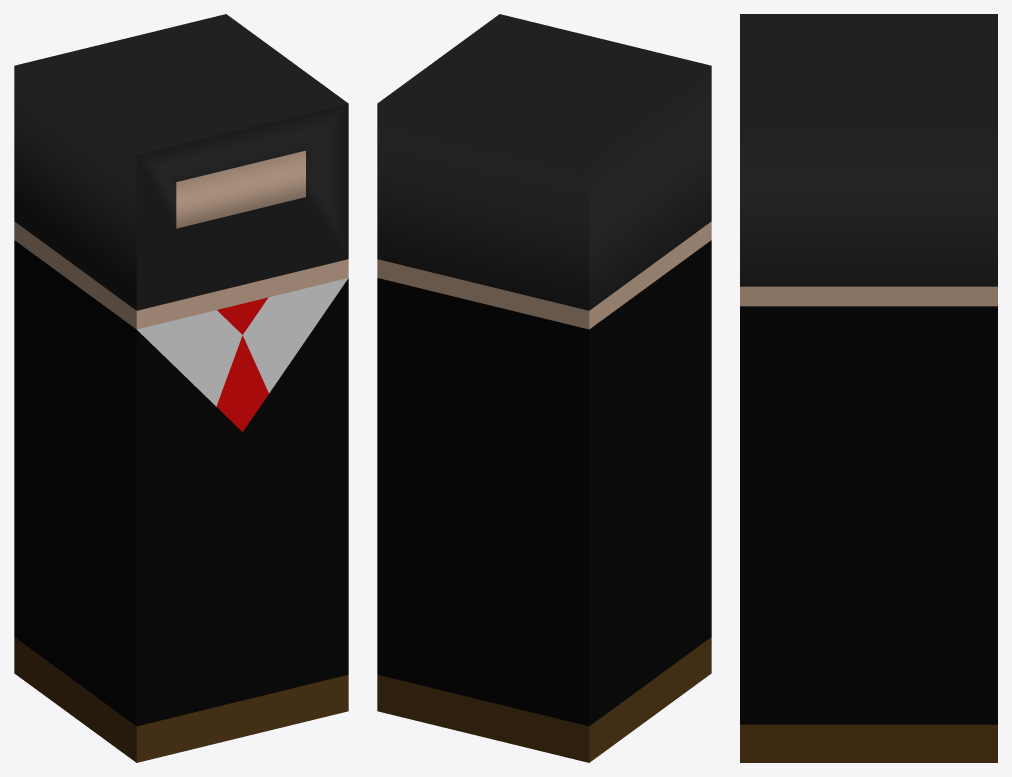
File: Thief.fbx
3 views of the same model, side by side, from view 1: azimuth 30°, elevation 25°; view 2: azimuth 150°, elevation 25°; view 3: azimuth 270°, elevation 25° (orthographic). The views are drawn at different scales.
Parts seen in each view (by area): view 1: pCube1; view 2: pCube1; view 3: pCube1.
Part boxes in pixels (x1,y1,x2,y2): pCube1: [14, 14, 348, 762]; pCube1: [377, 14, 711, 762]; pCube1: [740, 14, 997, 762].
Bounding box in the file's own units: 1 × 2.74 × 1.
